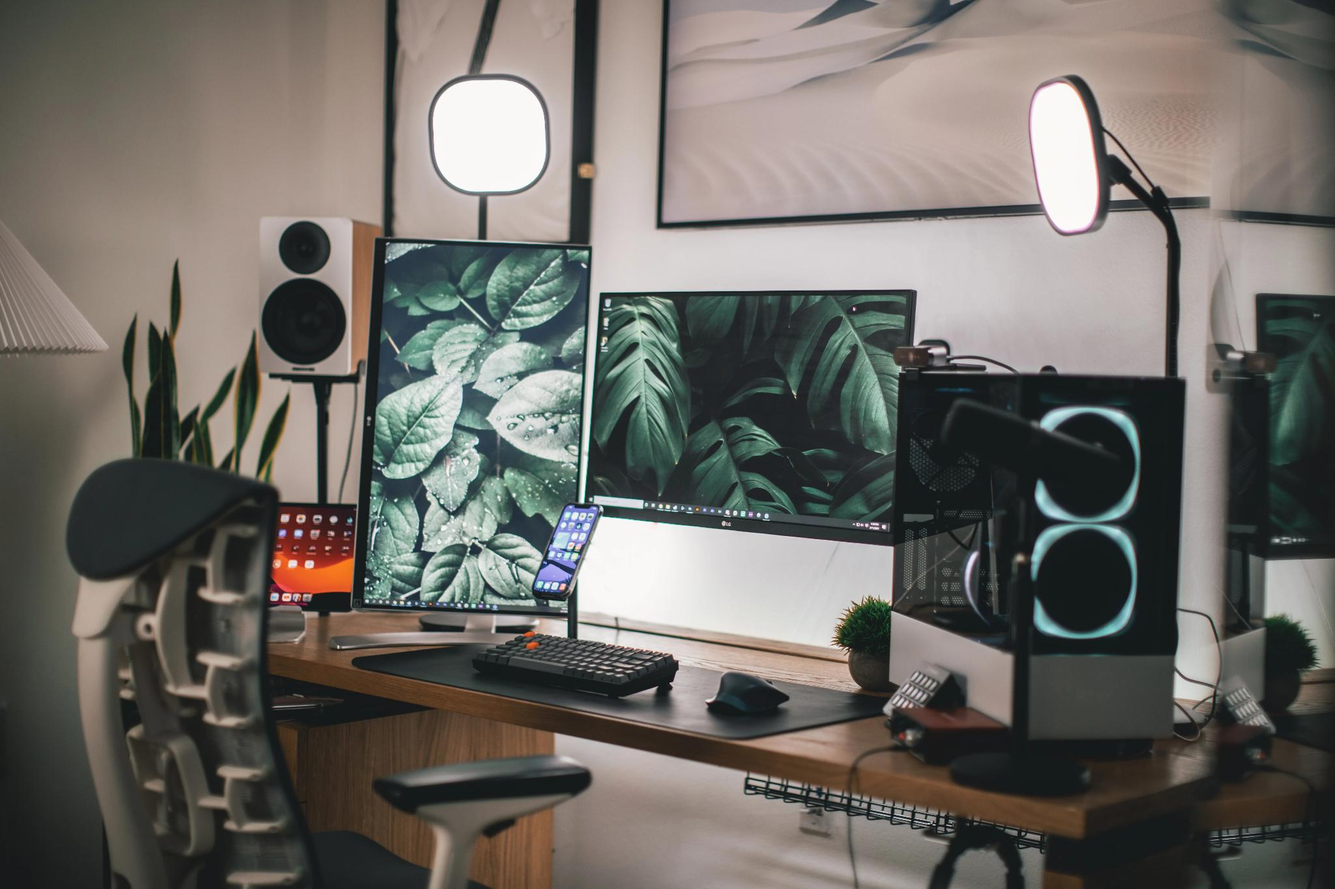keyboard: (465, 620, 687, 708)
light: (423, 66, 557, 205), (1020, 73, 1124, 247)
mic: (931, 380, 1131, 530)
mobile_phone: (529, 489, 601, 605)
monitor: (345, 230, 599, 626), (572, 281, 927, 553)
mouse: (700, 664, 795, 724)
pc: (871, 333, 1202, 781)
speaker: (240, 200, 385, 403)
tablet: (261, 499, 361, 615)
